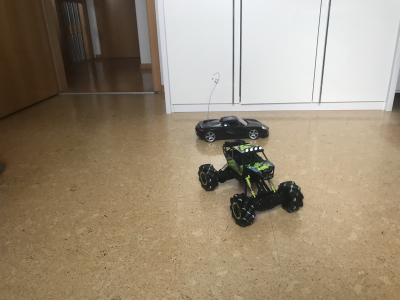remote control car: (195, 138, 306, 227)
